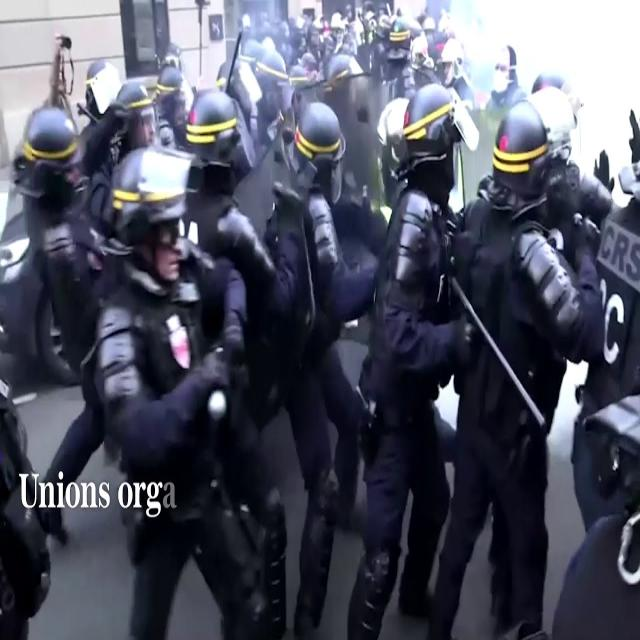police: (93, 156, 271, 640), (447, 101, 595, 640), (349, 77, 481, 634), (262, 94, 386, 554), (88, 40, 291, 311), (0, 65, 98, 485)
